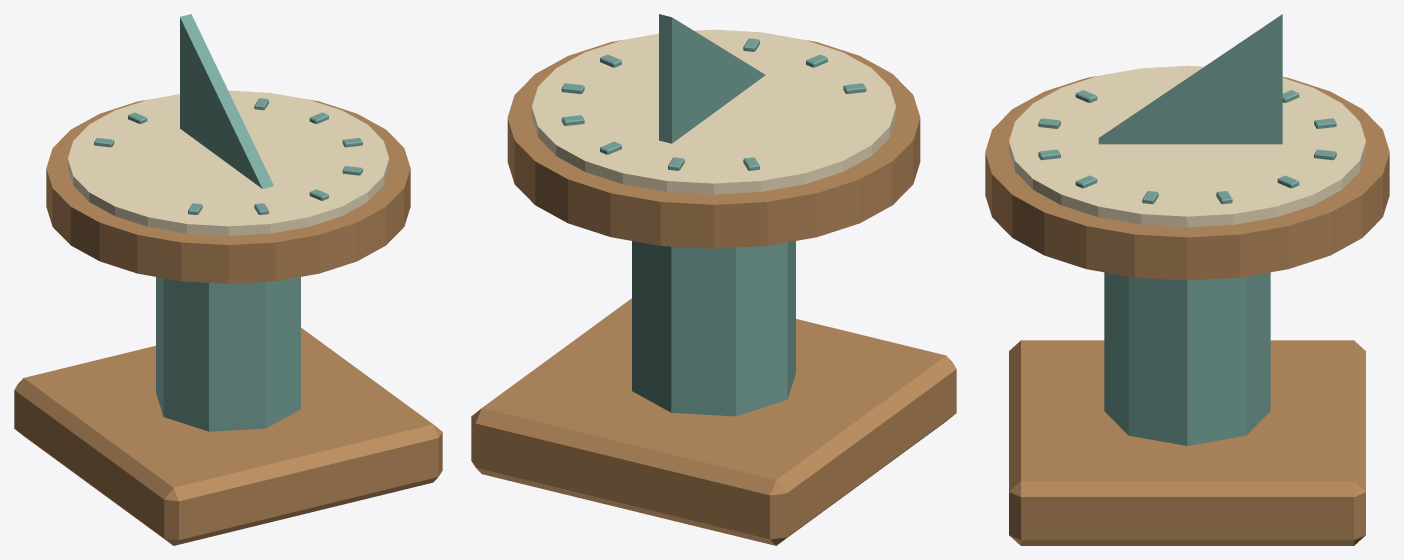
The picture shows the model from 3 angles, left to right: view 1: azimuth 30°, elevation 25°; view 2: azimuth 150°, elevation 25°; view 3: azimuth 270°, elevation 25°; orthographic projection. The views are drawn at different scales.
Visible parts, largest first — view 1: timekeeping-sundial-01; view 2: timekeeping-sundial-01; view 3: timekeeping-sundial-01.
Boxes of the visible parts, <box> form: timekeeping-sundial-01: <box>14,14,442,545</box>; timekeeping-sundial-01: <box>471,14,956,545</box>; timekeeping-sundial-01: <box>985,14,1389,545</box>.
Bounding box in the file's own units: 0.68 × 0.85 × 0.68.
